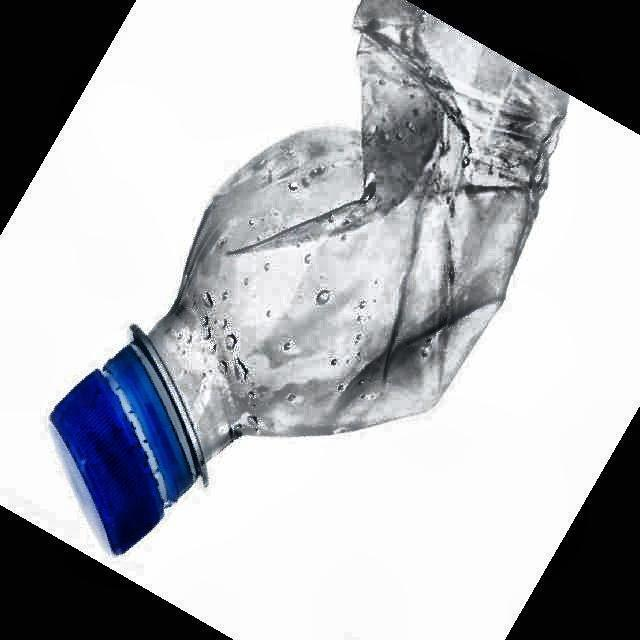plastic: (51, 0, 566, 552)
